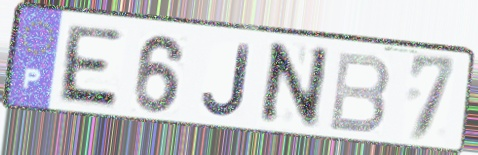6: (130, 33, 188, 116)
7: (401, 53, 458, 148)
B: (325, 49, 393, 137)
E: (54, 22, 126, 114)
J: (200, 42, 254, 121)
N: (253, 40, 333, 133)
